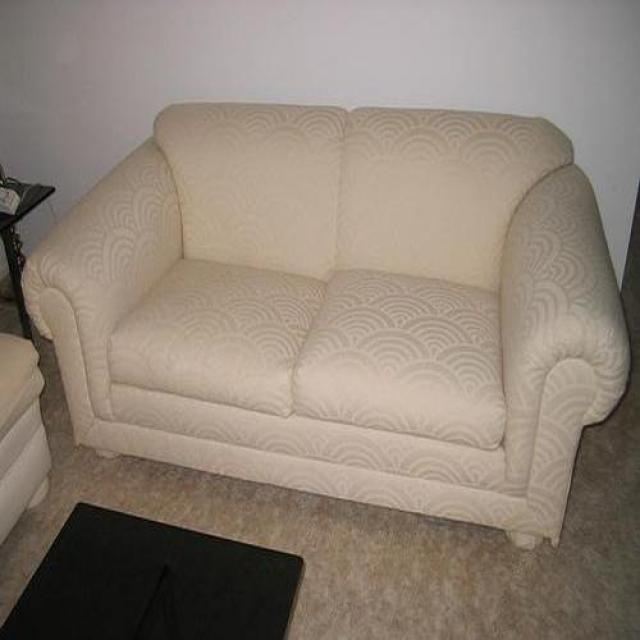sofa: (20, 102, 631, 552)
